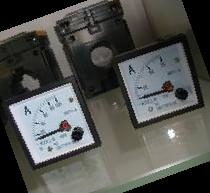pointer: (10, 83, 95, 164), (117, 41, 199, 124)
